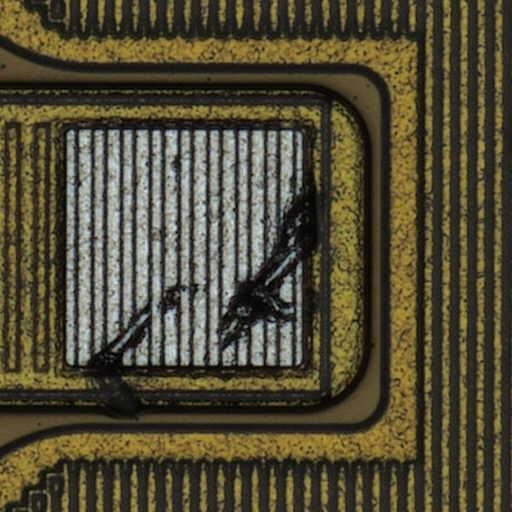SCRATCH: (79, 181, 331, 426)
